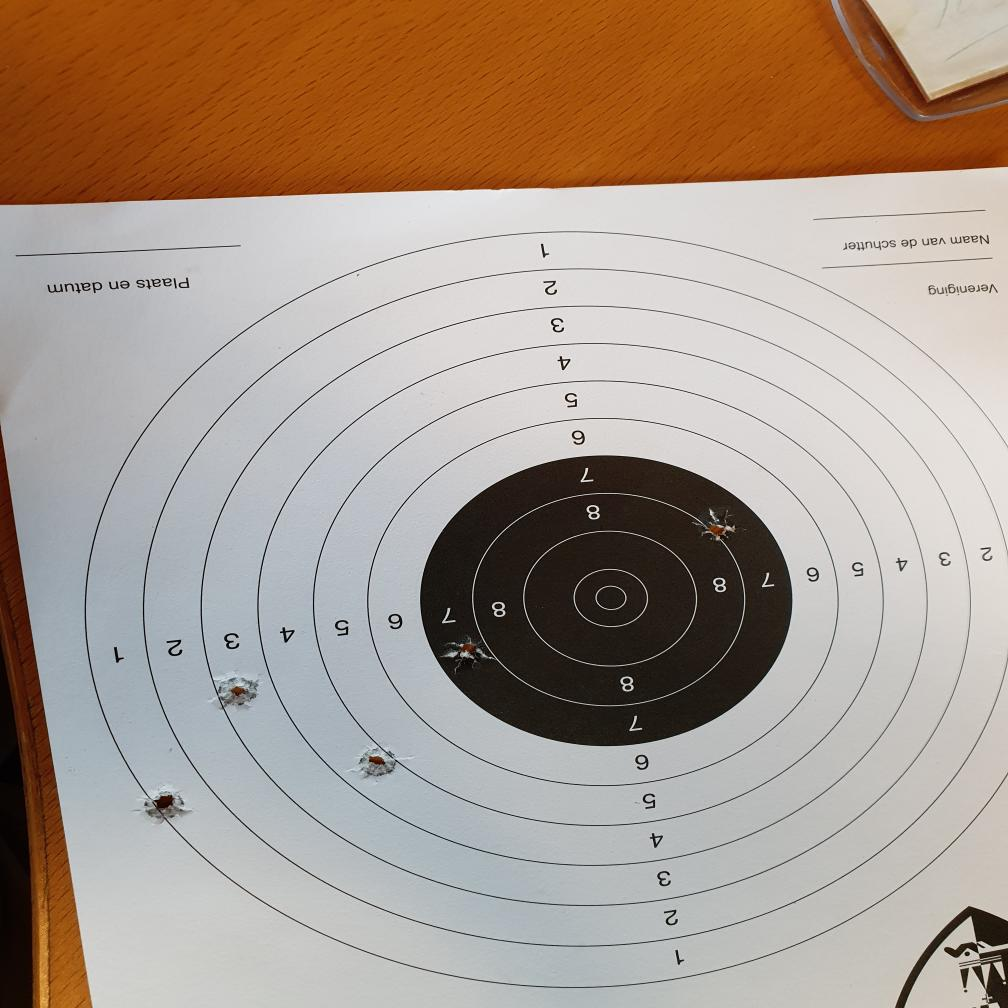1: (134, 784, 194, 826)
3: (208, 670, 265, 712)
5: (356, 738, 398, 785)
8: (695, 506, 751, 548), (447, 636, 492, 669)
Target: (81, 233, 1008, 989)
black_contour: (419, 454, 795, 745)
